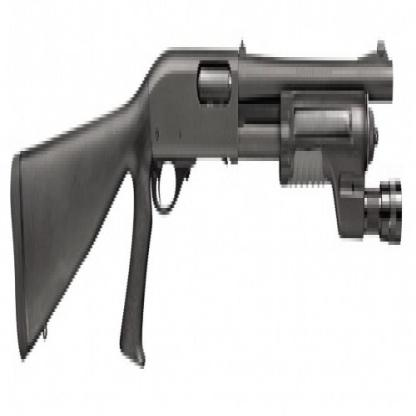Gun: (8, 3, 415, 413)
